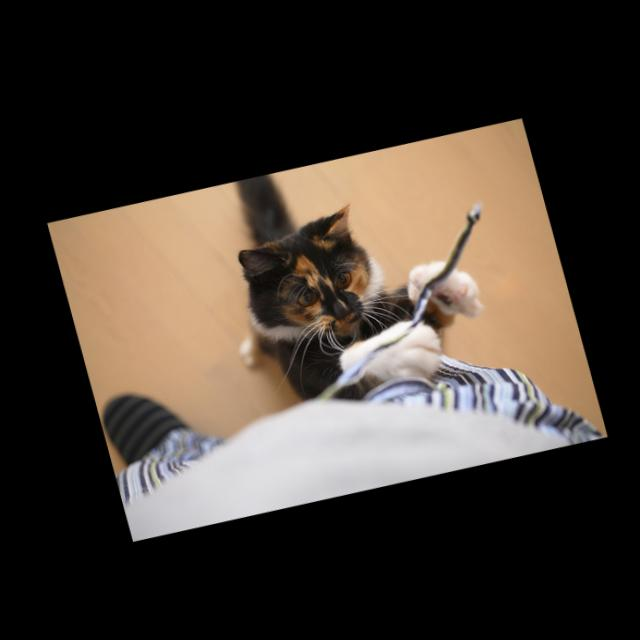animals: (234, 199, 375, 336)
